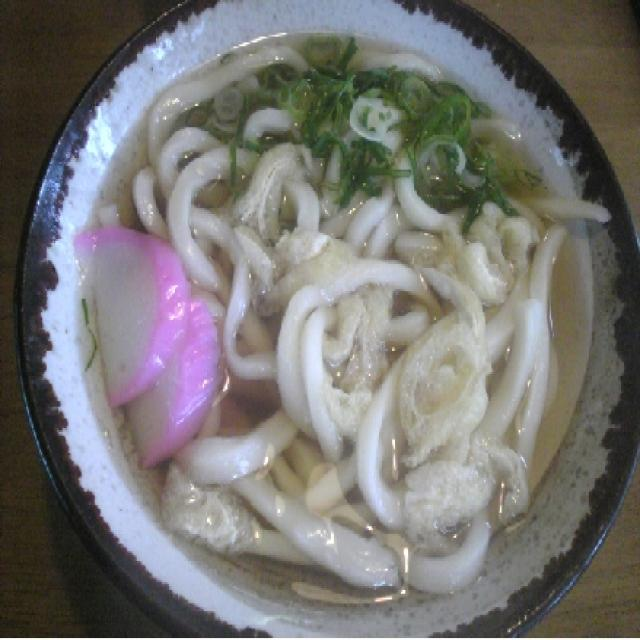面条主食: (51, 0, 640, 640)
